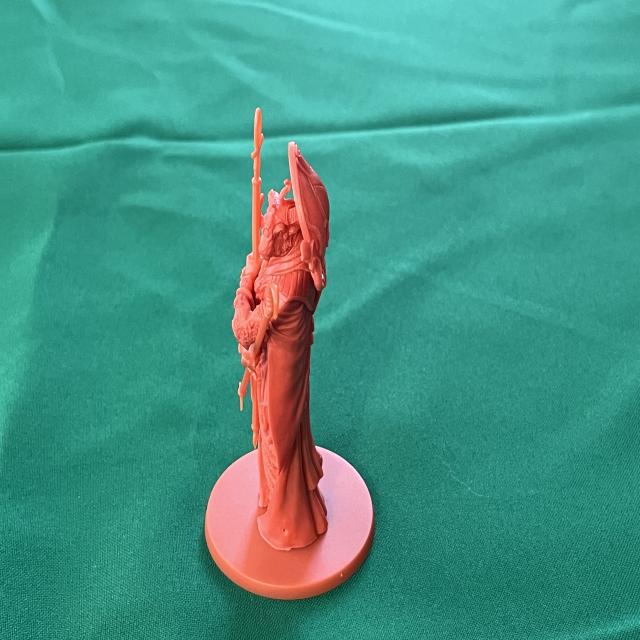amon: (202, 105, 377, 601)
